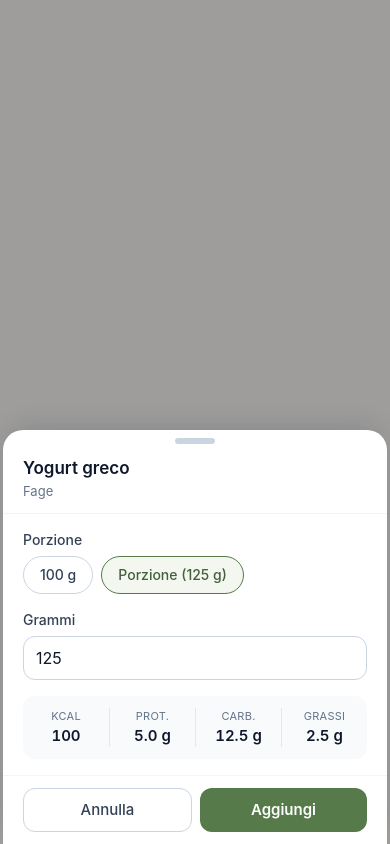
QuantityPicker › updates the live macro preview when the grams input changes
This screenshot has width=390, height=844.
Clear the number field labelled "Grammi". click: (195, 658)
box: [23, 636, 367, 680]
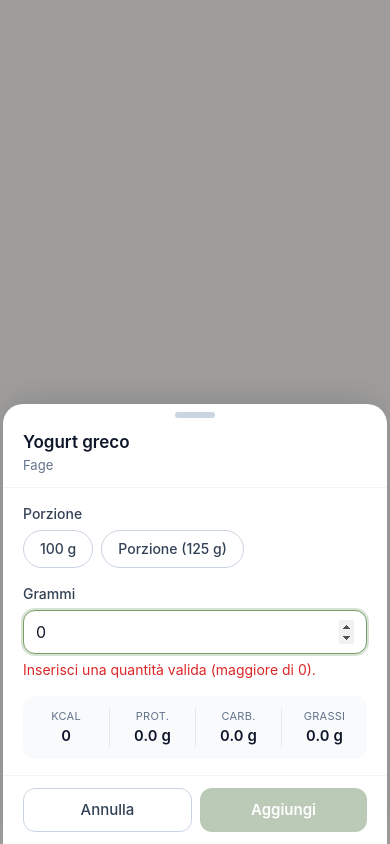
Type "250" into the number field labelled "Grammi". click: (195, 632)
box: [23, 610, 367, 654]
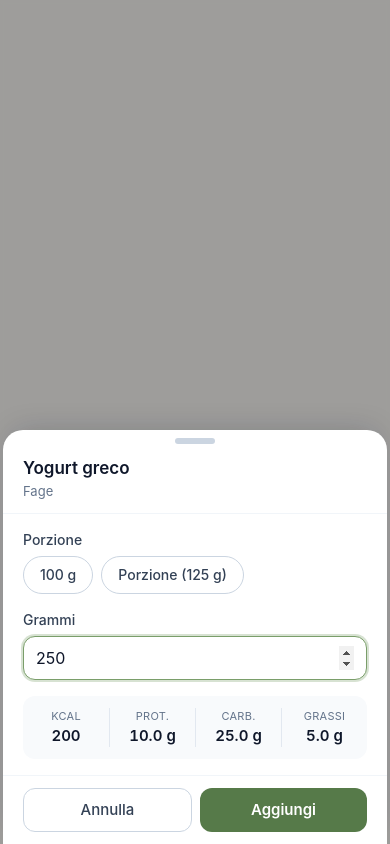
Now the text "200" is shown, box [51, 726, 80, 744]
